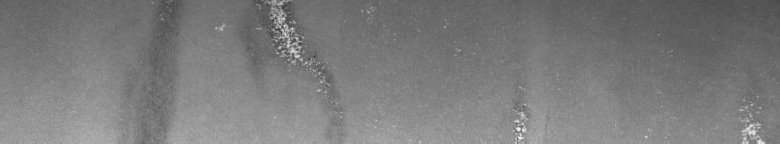hc: (159, 4, 383, 118)
